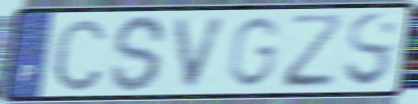C: (49, 15, 110, 94)
G: (224, 14, 284, 90)
S: (108, 12, 170, 95), (341, 10, 400, 91)
V: (171, 14, 233, 92)
Z: (281, 11, 347, 91)
